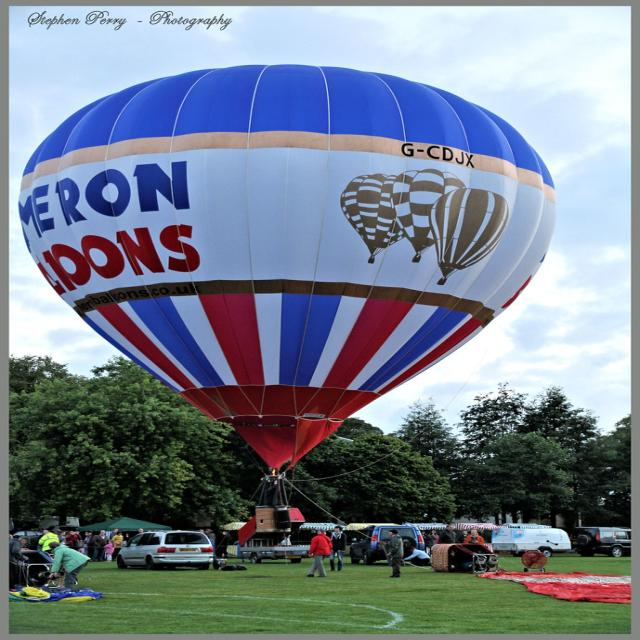balloon: (19, 63, 558, 480)
